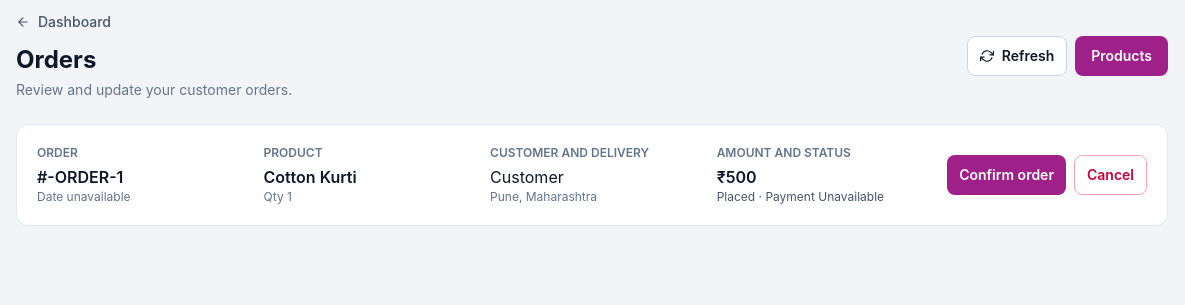
Test case: seller and admin order flows › confirms a seller order through the fulfillment API
Click the button "Confirm order" at (1007, 175), box x1=947 y1=155 x2=1066 y2=195
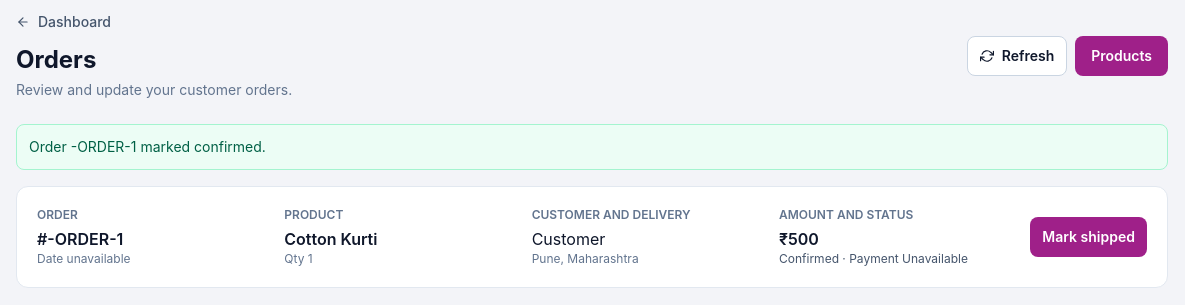
Result: the text "confirmed · Payment unavailable" is shown at x1=779 y1=251 x2=968 y2=266
